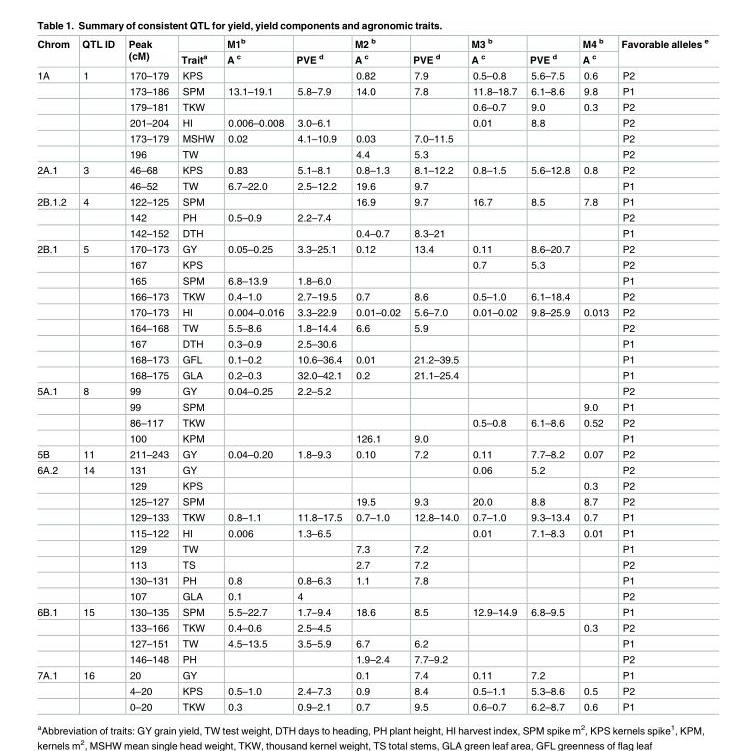table: (36, 37, 707, 711)
table column: (614, 37, 707, 711), (219, 37, 289, 711), (347, 37, 406, 711), (289, 37, 347, 711), (406, 37, 464, 711), (464, 37, 522, 711), (120, 37, 174, 711), (522, 37, 575, 711), (75, 37, 120, 711), (174, 37, 219, 711), (36, 37, 75, 711), (575, 37, 614, 711)
table column header: (36, 37, 707, 67)
table row: (36, 51, 707, 67), (36, 67, 707, 83), (36, 83, 707, 99), (36, 99, 707, 115), (36, 130, 707, 146), (36, 146, 707, 162), (36, 162, 707, 178), (36, 178, 707, 194), (36, 209, 707, 225), (36, 225, 707, 241), (36, 241, 707, 257), (36, 272, 707, 288), (36, 288, 707, 304), (36, 304, 707, 320), (36, 320, 707, 336), (36, 351, 707, 367), (36, 367, 707, 383), (36, 383, 707, 399), (36, 414, 707, 430), (36, 430, 707, 446), (36, 446, 707, 462), (36, 462, 707, 478), (36, 493, 707, 509), (36, 509, 707, 525), (36, 525, 707, 541), (36, 541, 707, 557), (36, 572, 707, 588), (36, 588, 707, 604), (36, 604, 707, 620), (36, 635, 707, 651), (36, 651, 707, 667), (36, 667, 707, 683), (36, 683, 707, 699), (36, 115, 707, 130), (36, 194, 707, 209), (36, 257, 707, 272), (36, 336, 707, 351), (36, 399, 707, 414), (36, 478, 707, 493), (36, 557, 707, 572), (36, 620, 707, 635), (36, 37, 707, 51), (36, 699, 707, 711)
table spanning cell: (36, 241, 75, 383), (36, 462, 75, 604), (36, 67, 75, 162), (614, 37, 707, 67), (36, 383, 75, 446), (36, 604, 75, 667), (219, 37, 289, 67), (36, 194, 75, 241), (347, 37, 406, 67), (289, 37, 347, 67), (406, 37, 464, 67), (464, 37, 522, 67), (36, 667, 75, 711), (120, 37, 174, 67), (522, 37, 575, 67), (75, 37, 120, 67), (174, 37, 219, 67), (36, 162, 75, 194), (36, 37, 75, 67), (575, 37, 614, 67)
